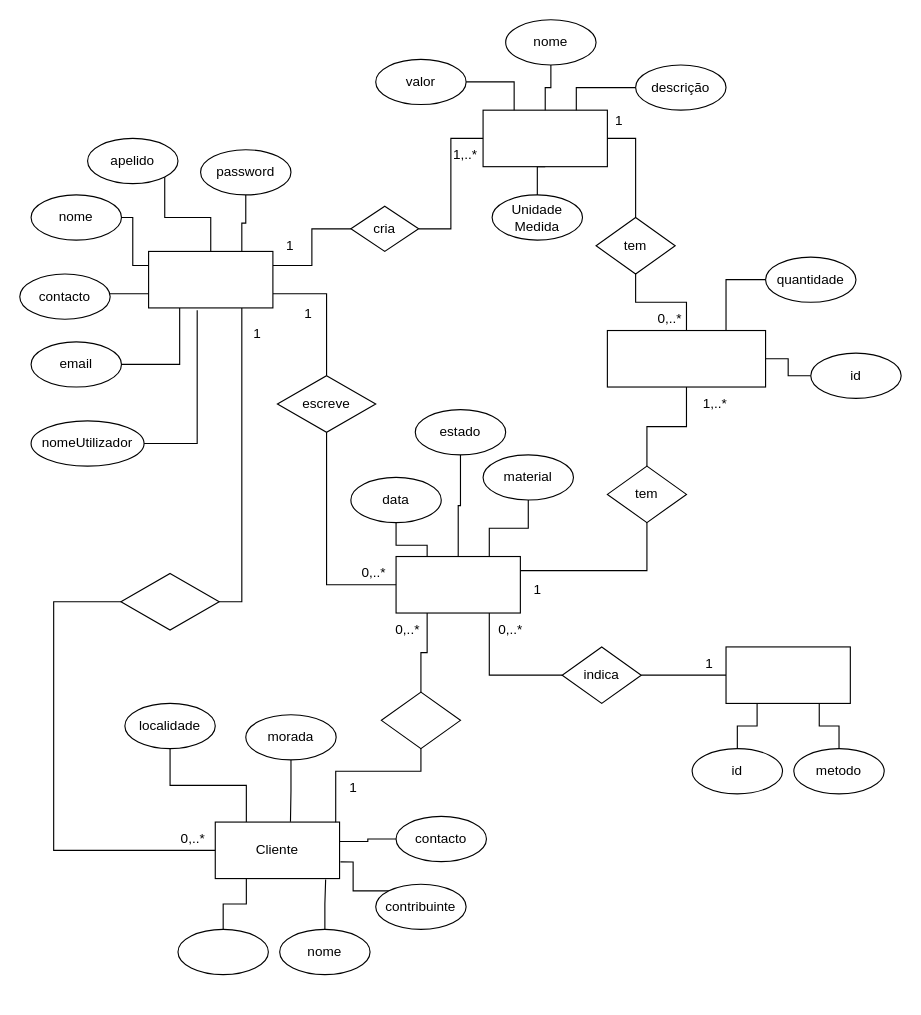
The diagram is 921 pixels wide and 1015 high, and some of its shapes have lost their labels. The centre of each missing label's shape, as x and y in pixels:
associa: the point at 169,601
cod postal: the point at 222,951
ItemOrçamento: the point at 686,358
Orçamento: the point at 457,584
Pagamento: the point at 787,674
para: the point at 420,720
Serviço: the point at 544,138
Utilizador: the point at 210,279
